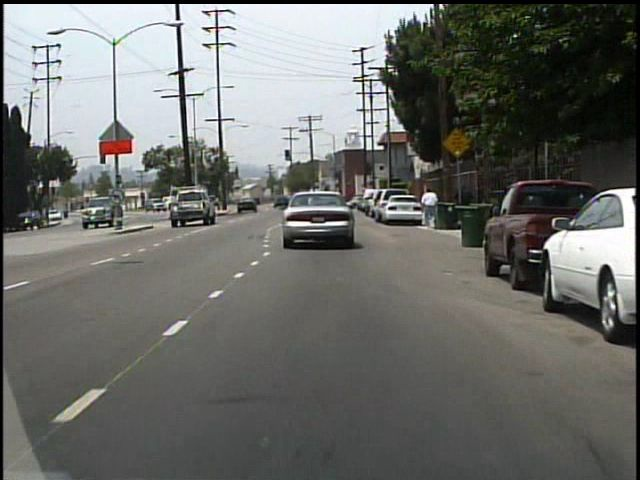person: (420, 187, 439, 232)
